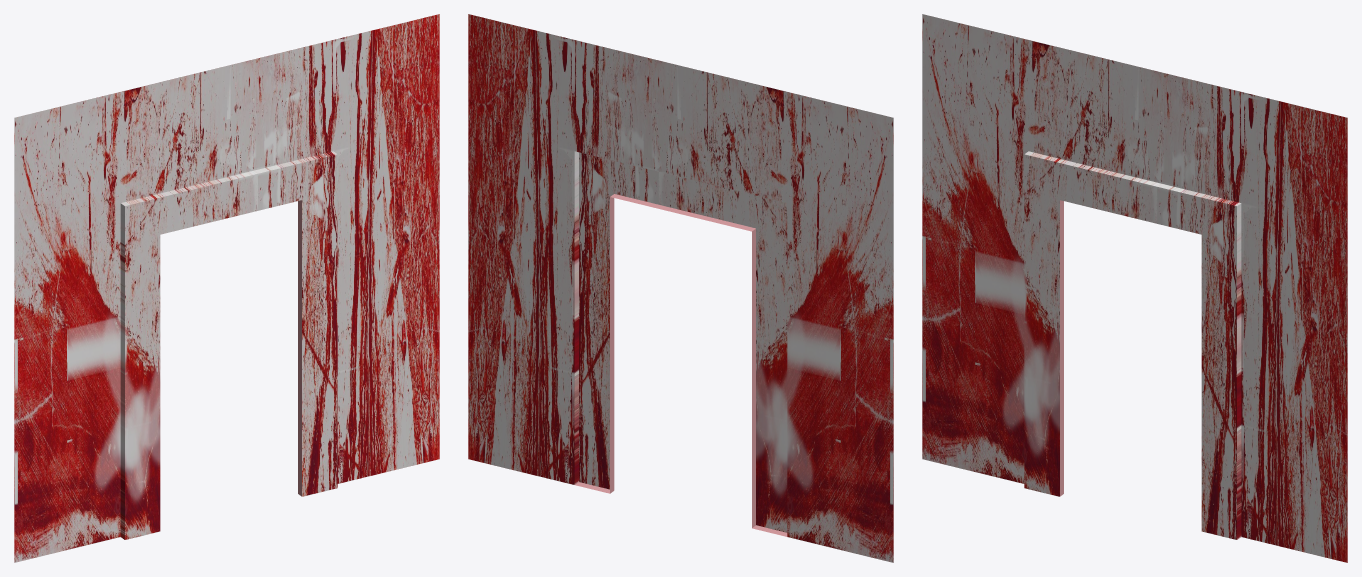
Rendered from Marco_21.fbx.
3 renders of one model, left to right at view 1: azimuth 30°, elevation 25°; view 2: azimuth 150°, elevation 25°; view 3: azimuth 330°, elevation 25°, orthographic.
Parts seen in each view (by area): view 1: Plane.036; view 2: Plane.036; view 3: Plane.036.
Part boxes in pixels (left/top/right/bottom): Plane.036: left=14, top=14, right=439, bottom=562; Plane.036: left=468, top=14, right=893, bottom=562; Plane.036: left=922, top=14, right=1347, bottom=562.
Bounding box in the file's own units: 600 × 600 × 10.38.
